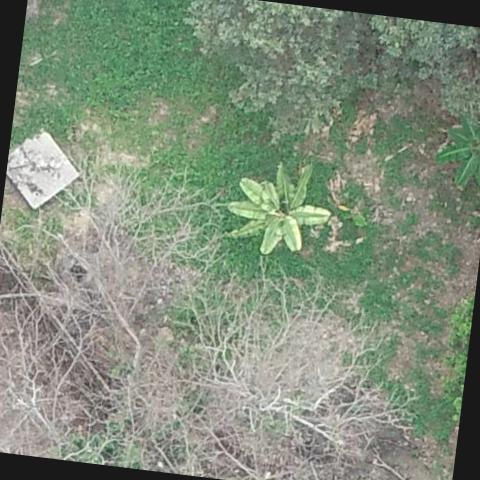Banana-plant: (213, 145, 347, 276), (420, 100, 480, 191)
